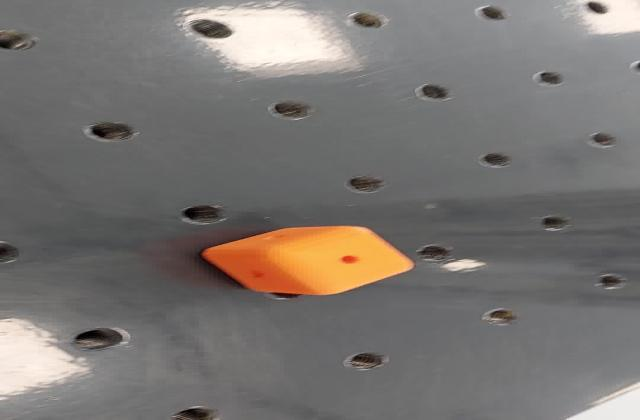cube: (192, 223, 418, 299)
